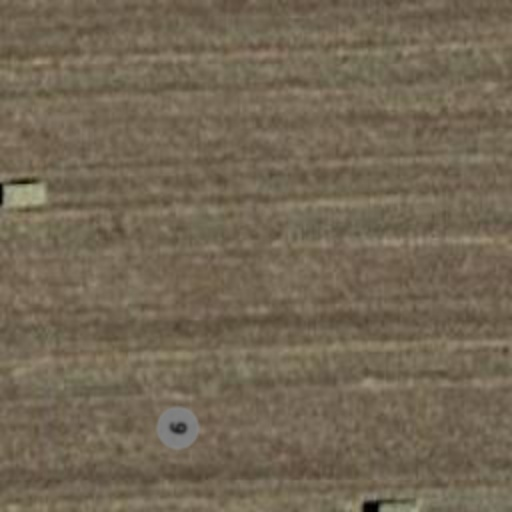circle: (154, 404, 202, 452)
